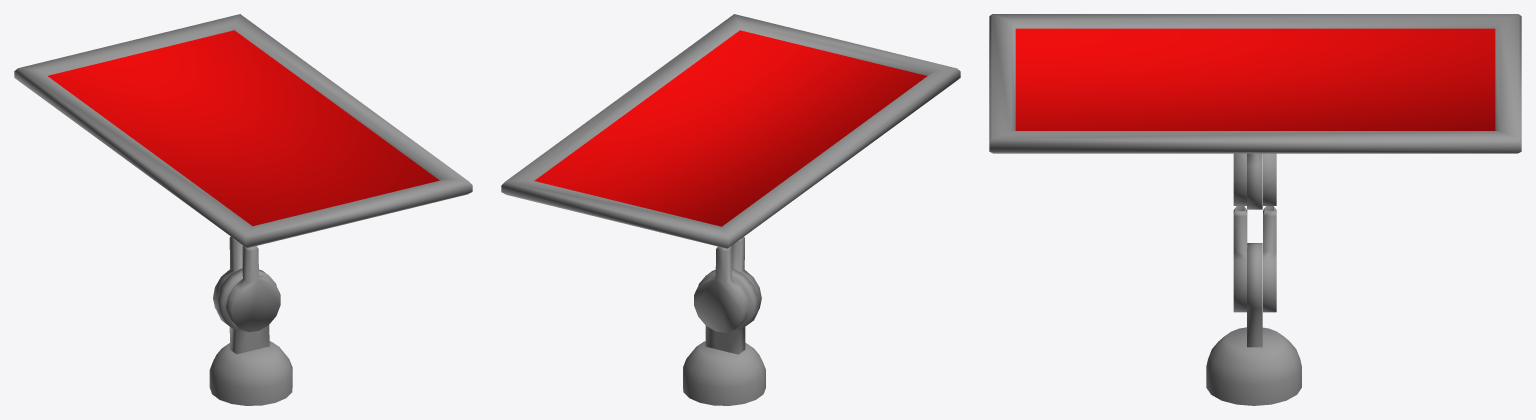
Rendered from prop_adverd_low.FBX.
3 renders of one model, left to right at view 1: azimuth 30°, elevation 25°; view 2: azimuth 150°, elevation 25°; view 3: azimuth 270°, elevation 25°, orthographic. The views are drawn at different scales.
Visible parts, largest first — view 1: prop_adverd5_low, prop_adverd1_low, prop_adverd2_low; view 2: prop_adverd5_low, prop_adverd1_low, prop_adverd2_low; view 3: prop_adverd5_low, prop_adverd1_low, prop_adverd2_low, prop_adverd3_low, prop_adverd4_low.
Boxes of the visible parts, x1,y1,x2,y2 form: prop_adverd5_low: [14, 14, 472, 248]; prop_adverd1_low: [209, 268, 292, 405]; prop_adverd2_low: [213, 236, 280, 332]; prop_adverd5_low: [501, 14, 960, 248]; prop_adverd1_low: [683, 268, 765, 405]; prop_adverd2_low: [694, 237, 761, 332]; prop_adverd5_low: [989, 14, 1521, 153]; prop_adverd1_low: [1206, 243, 1301, 405]; prop_adverd2_low: [1233, 207, 1276, 312]; prop_adverd3_low: [1233, 153, 1276, 210]; prop_adverd4_low: [1247, 153, 1262, 209].
Size of the model in its own units: 4.31 by 4.81 by 7.61.
